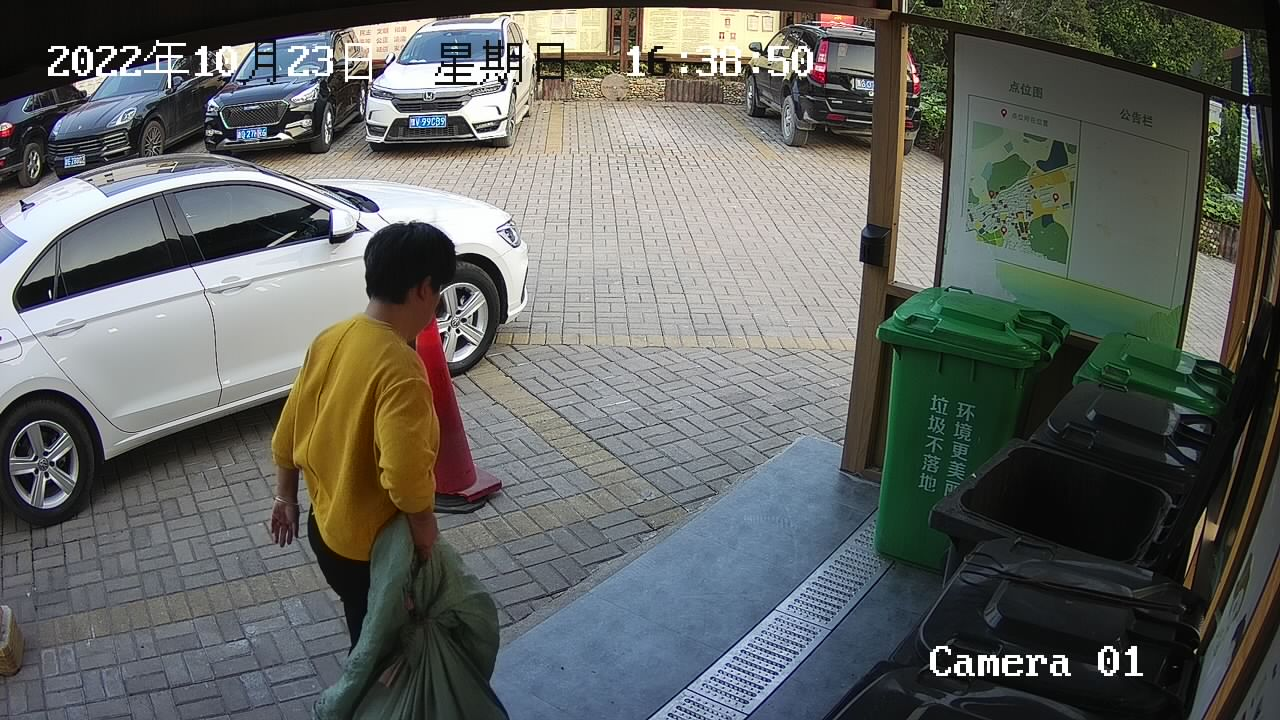garbage-bag: (309, 504, 518, 720)
worker: (264, 215, 463, 695)
